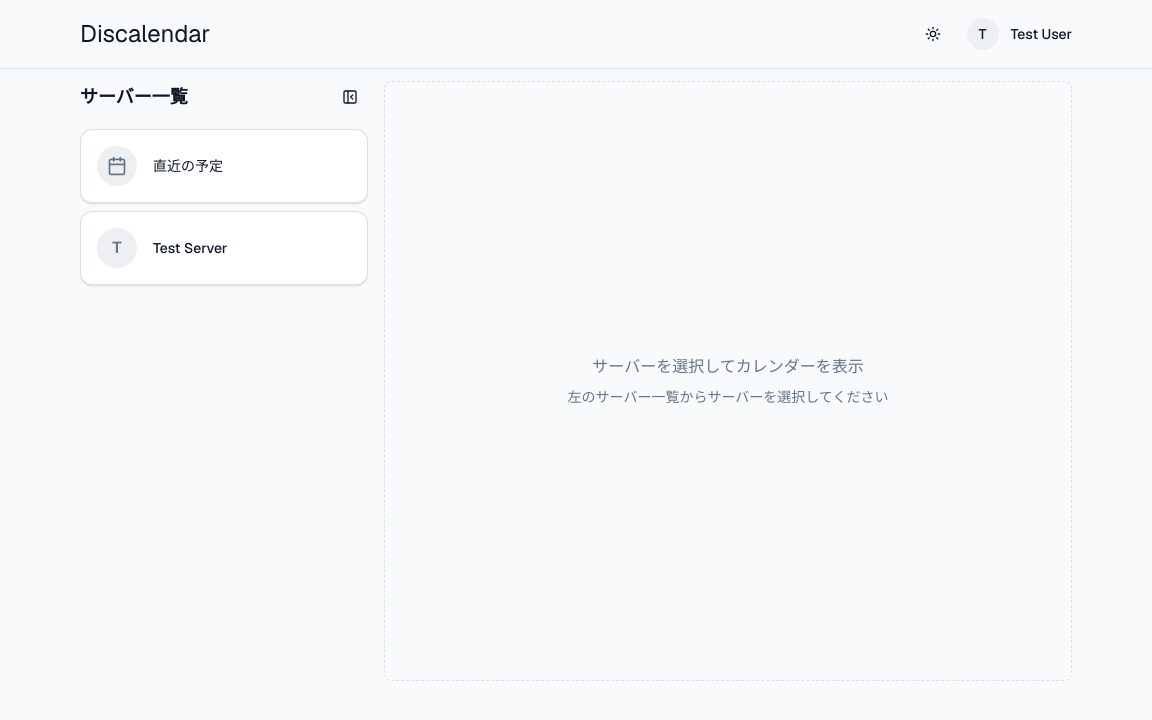
Test: DashboardPage › サイドバー折りたたみ/展開 › should toggle sidebar collapse state on button click
The width and height of the screenshot is (1152, 720).
Check: the heading "サーバー一覧" is shown, box [80,83,188,111]
Click the button named "サイドバーを折りたたむ". click: point(350, 97)
box: [332,81,368,113]
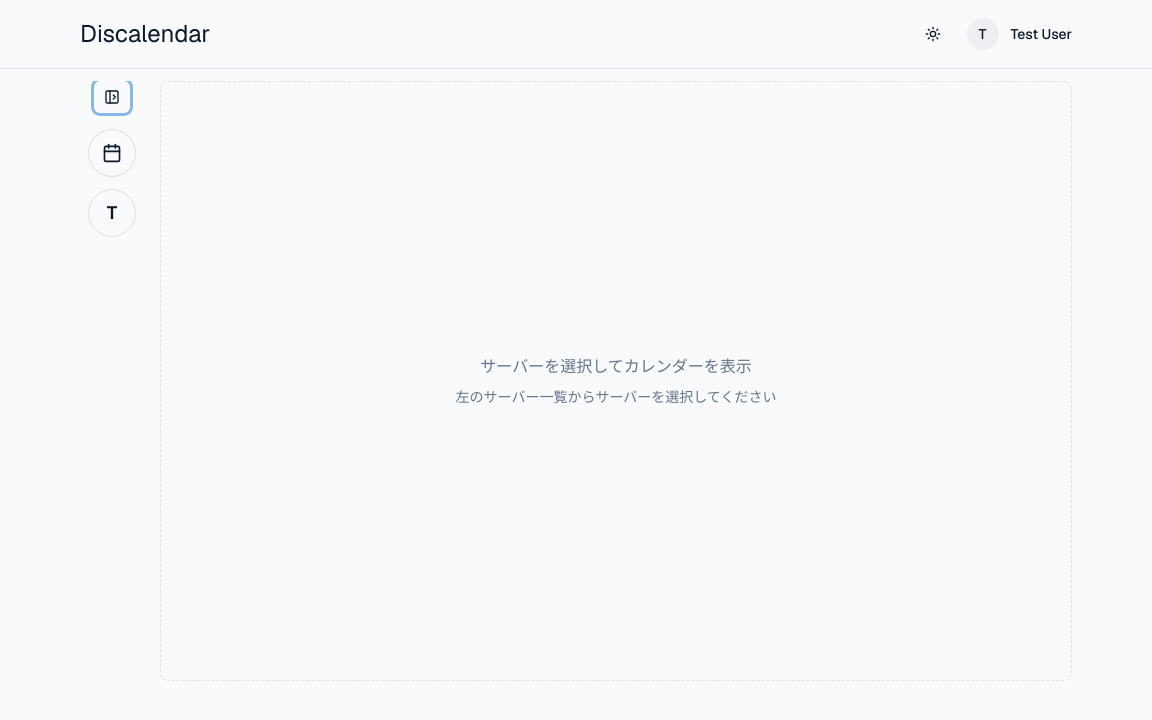
Check: the button named "サイドバーを展開" is collapsed, box [94,81,130,113]
